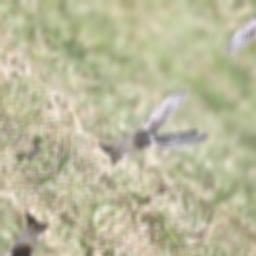Swallow: (93, 74, 225, 194)
